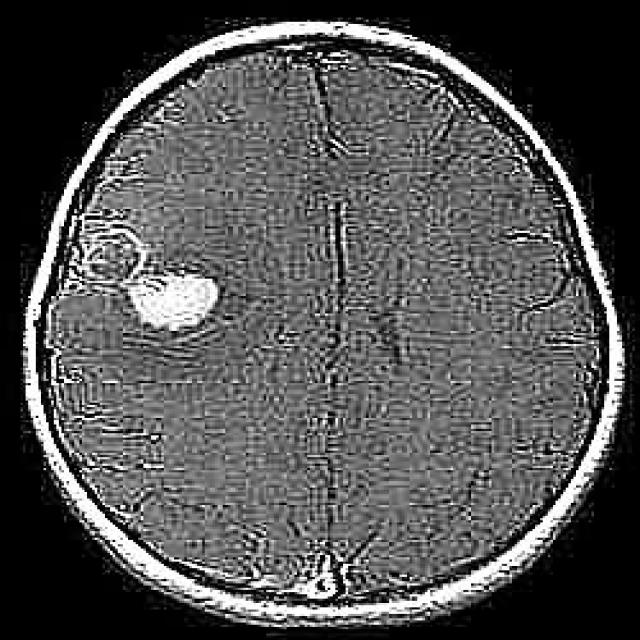Tumor-Cell: (85, 224, 216, 336)
